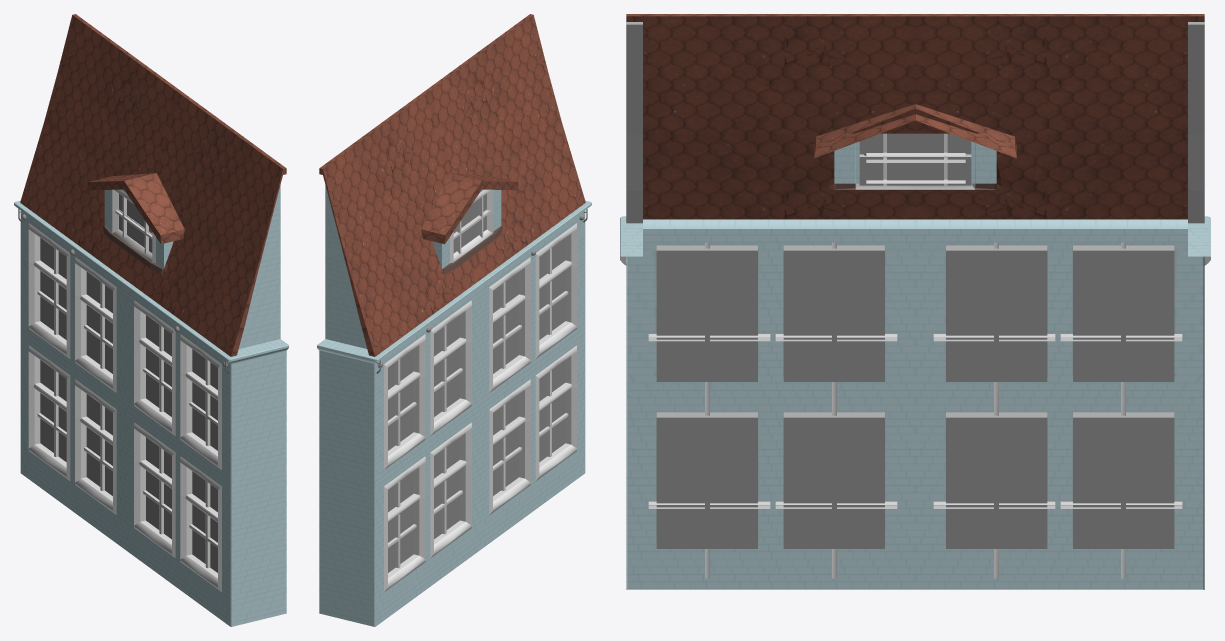
Rendered from B_House_A.fbx.
3 views of the same model, side by side, from view 1: azimuth 30°, elevation 25°; view 2: azimuth 150°, elevation 25°; view 3: azimuth 270°, elevation 25° (orthographic). The views are drawn at different scales.
Parts seen in each view (by area): view 1: House_A; view 2: House_A; view 3: House_A.
Boxes of the visible parts, x1,y1,x2,y2 form: House_A: [14, 14, 288, 626]; House_A: [317, 14, 591, 626]; House_A: [620, 14, 1210, 589].
Size of the model in its own units: 90.79 by 639 by 561.
